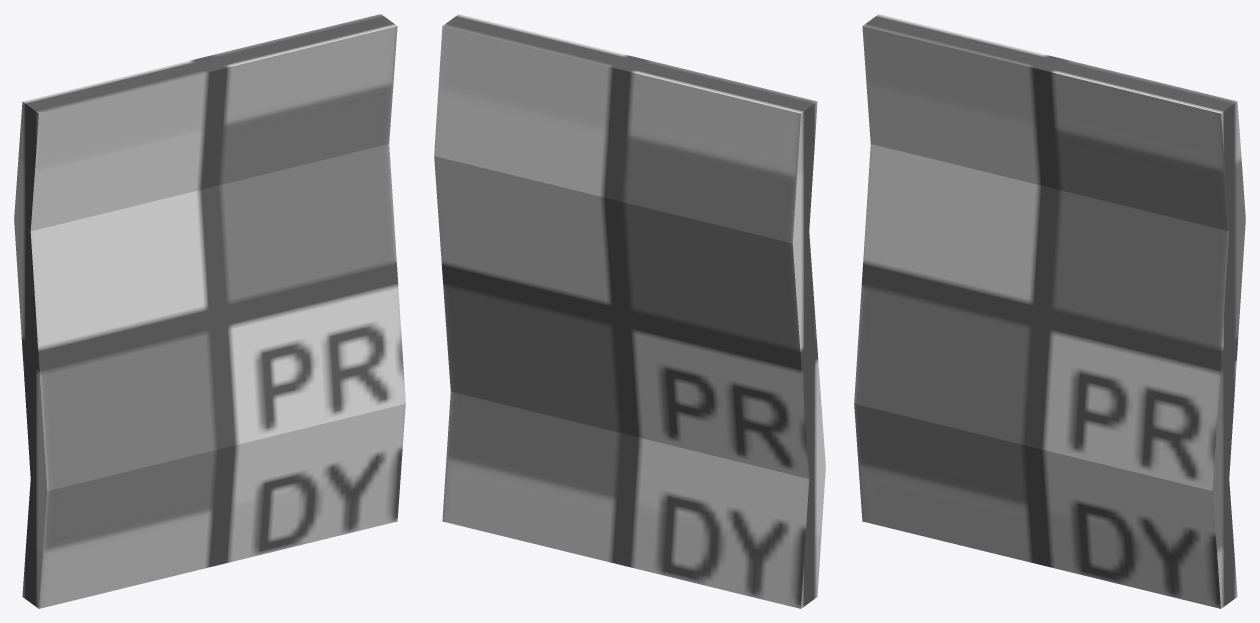
The model's file is JMB_Document.fbx.
3 views of the same model, side by side, from view 1: azimuth 30°, elevation 25°; view 2: azimuth 150°, elevation 25°; view 3: azimuth 330°, elevation 25° (orthographic).
Parts seen in each view (by area): view 1: JMB_Document; view 2: JMB_Document; view 3: JMB_Document.
Boxes of the visible parts, x1,y1,x2,y2 form: JMB_Document: [14, 14, 405, 608]; JMB_Document: [434, 14, 825, 608]; JMB_Document: [854, 14, 1245, 608].
Bounding box in the file's own units: 25 × 33 × 4.
